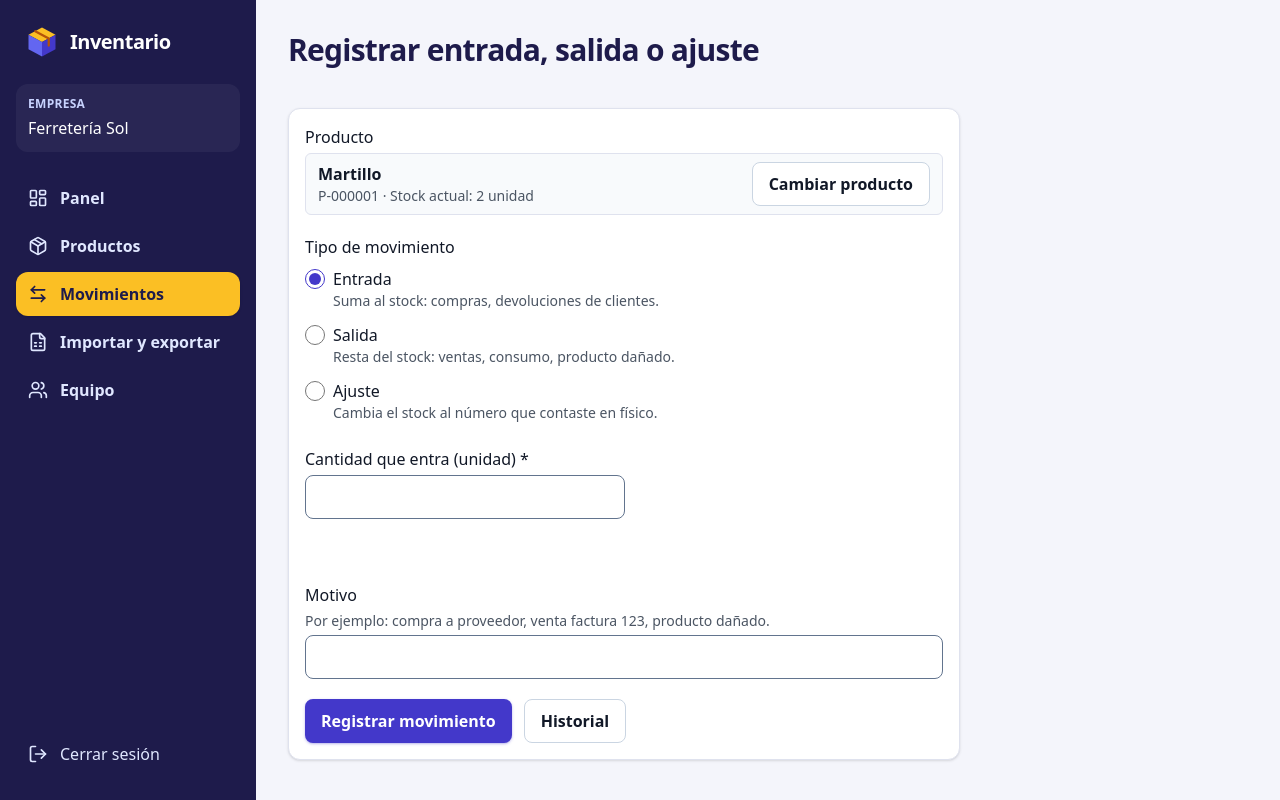
Scenario: Registrar movimientos › muestra el error de la base si otro usuario dejó sin stock
Expected: the text "P-000001 · Stock actual: 2 unidad" is shown, [318, 186, 534, 206]
Click the radio button labelled "Salida Resta del stock: ventas, consumo, producto dañado." at (315, 335), box [305, 325, 325, 345]
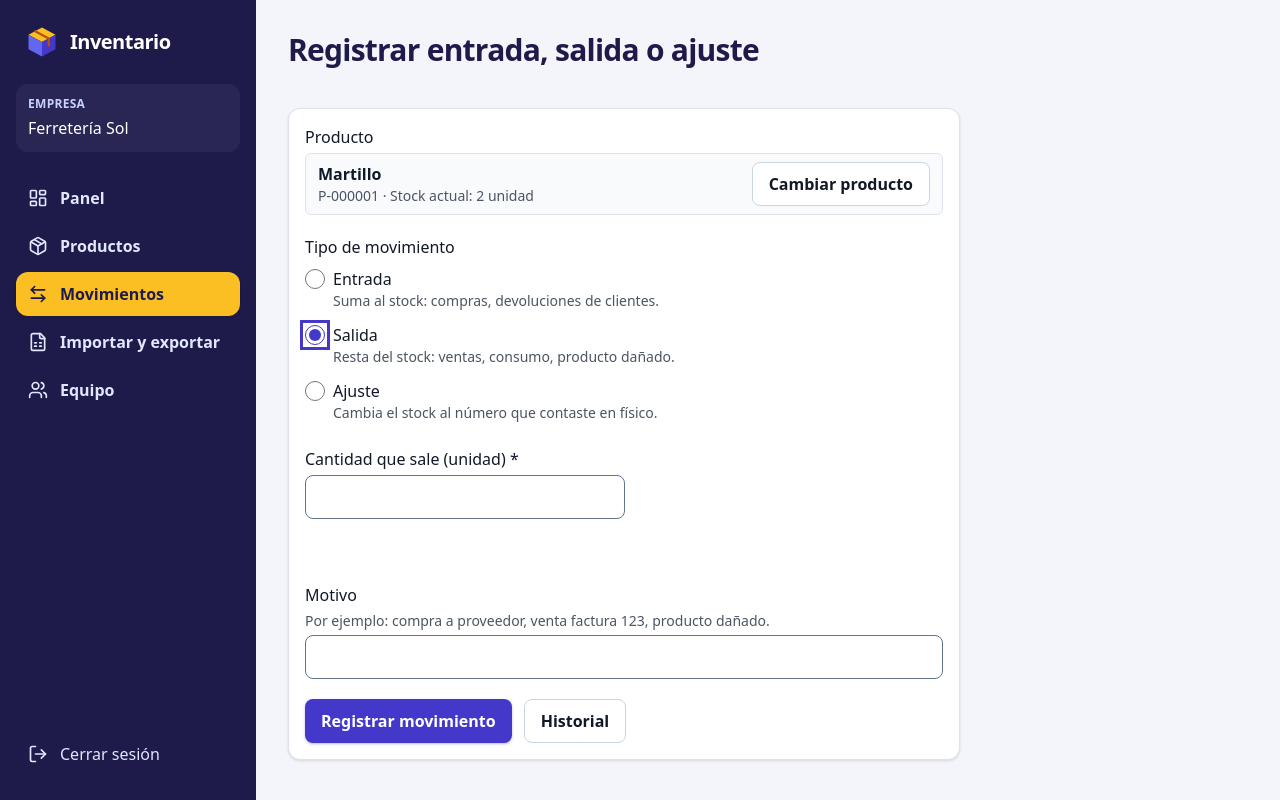
Type "1" into the field labelled "Cantidad que sale (unidad) *" at (465, 497), box [305, 475, 625, 519]
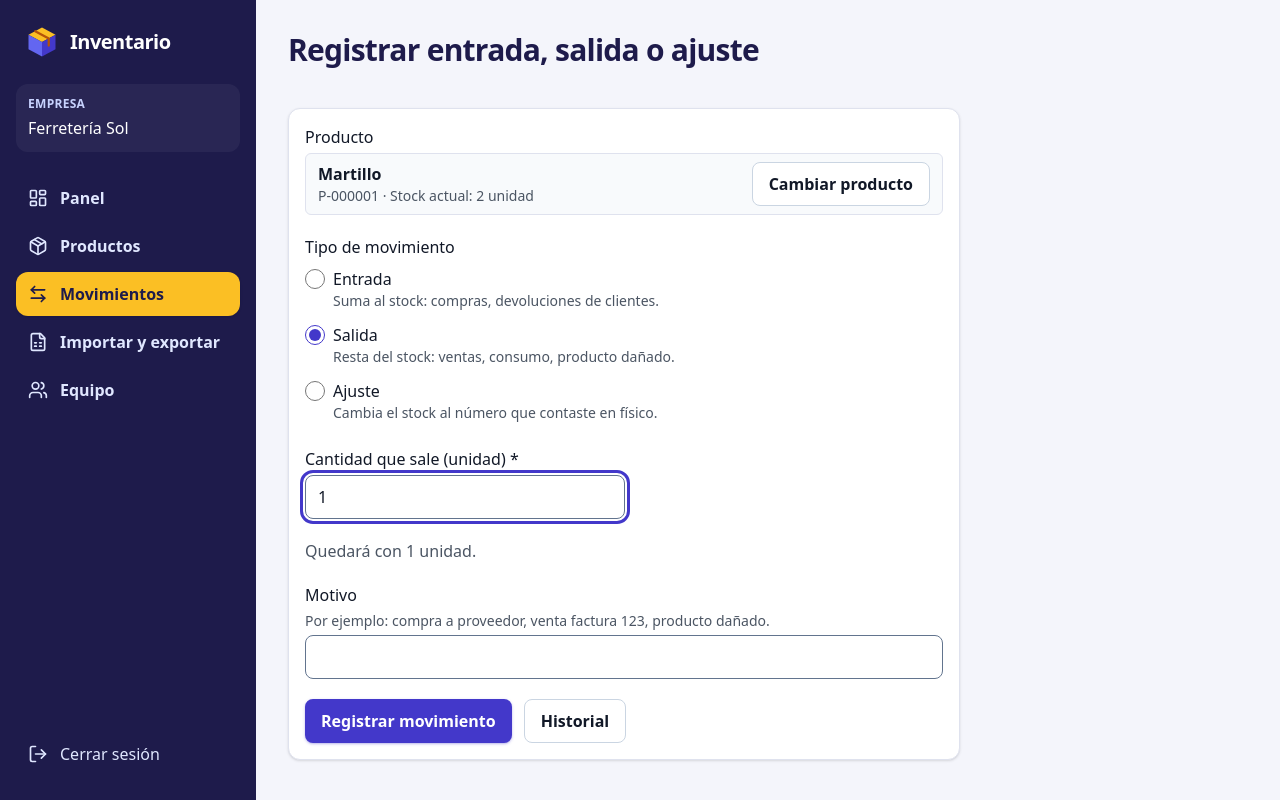
Click the button "Registrar movimiento" at (408, 721), box [305, 699, 512, 743]
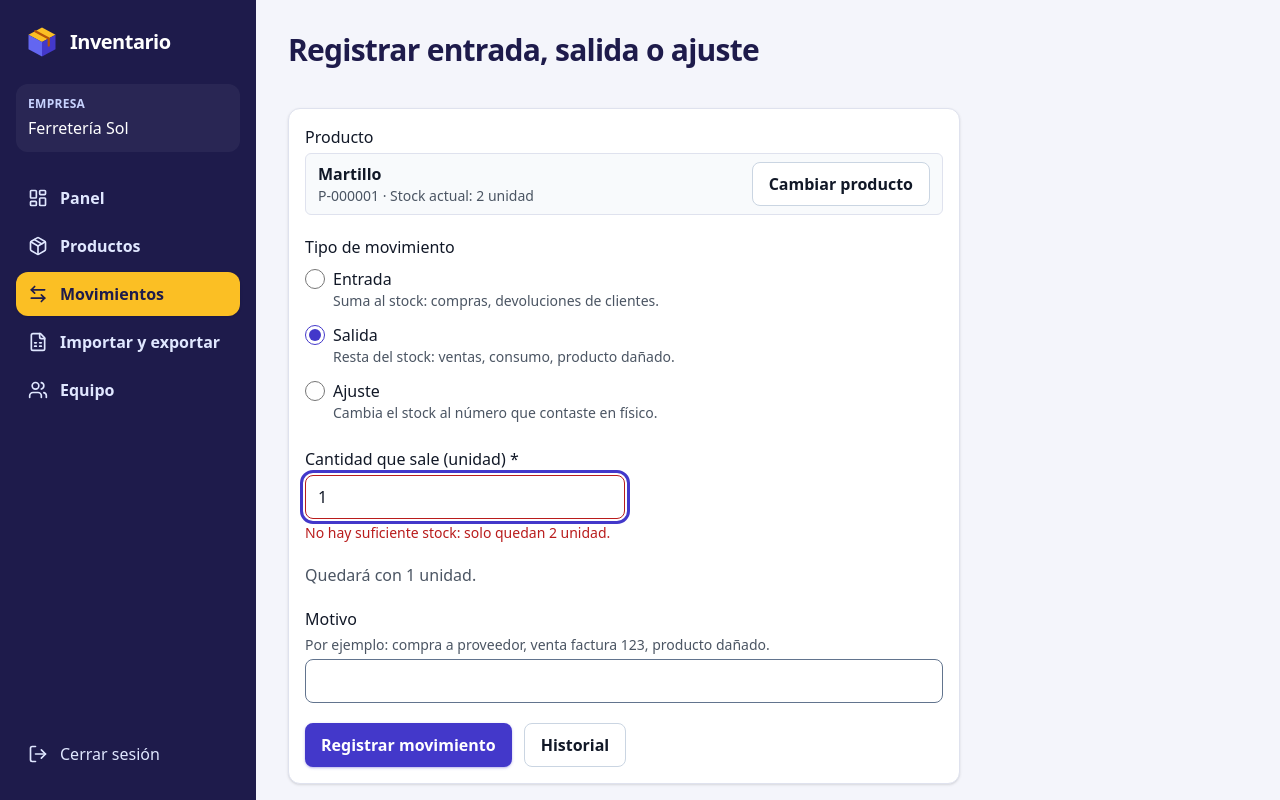
Expected: the text "No hay suficiente stock: solo quedan 2 unidad." is shown, [305, 523, 625, 543]
